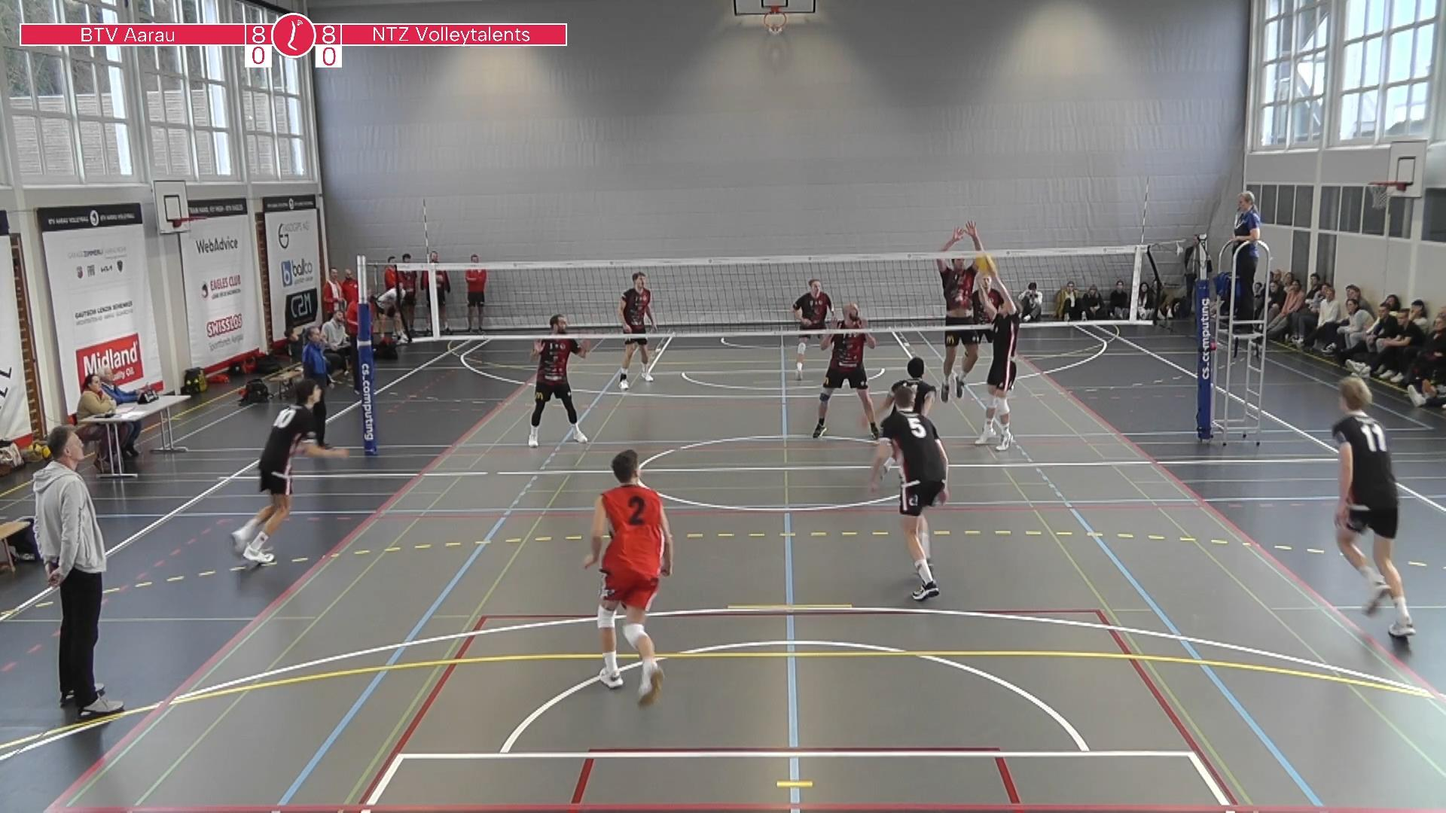alzata: (968, 273, 1024, 452)
